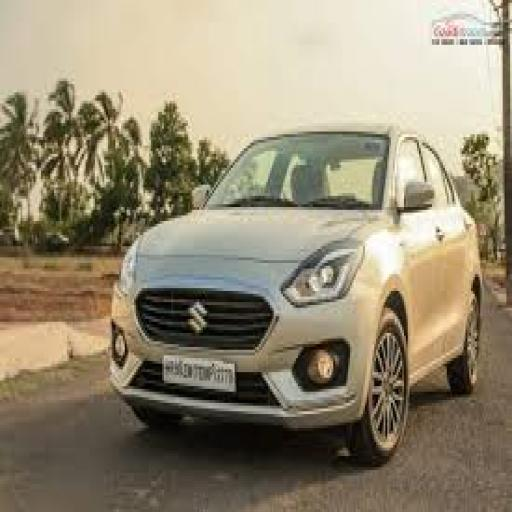License: (158, 353, 240, 397)
